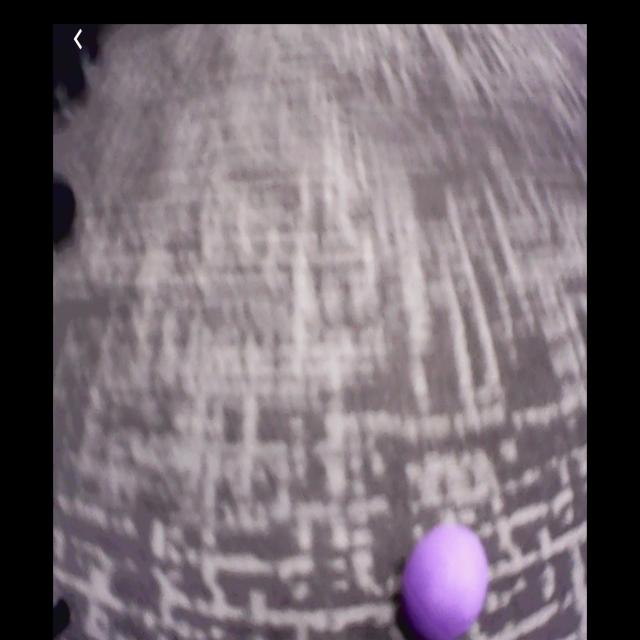ball: (400, 519, 489, 640)
